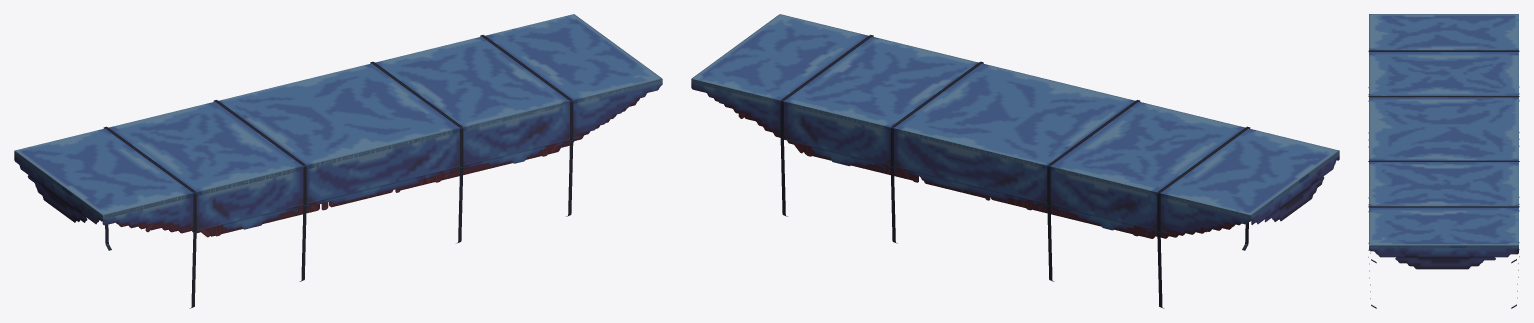
Rendered from meter_freight_tarpaulin.obj.
3 views of the same model, side by side, from view 1: azimuth 30°, elevation 25°; view 2: azimuth 150°, elevation 25°; view 3: azimuth 270°, elevation 25° (orthographic). The views are drawn at different scales.
Parts seen in each view (by area): view 1: part_3f44924043c4c78b4c84a5f68e82ac01, part_d52ee66c536ba1ac29a95e56605b6c20, part_53c2d39a418640fdb8cf22d03f7dfb9c, part_72583437741474e899dc1efa136be4ad, part_a0d662268ad5cb1cfc1192c785297af4, part_caaedb47b12e5f9b578c8f1892529db7; view 2: part_3f44924043c4c78b4c84a5f68e82ac01, part_6cf12048efe7e74f797b69c0b543117c, part_fd5e1a8cb93d28d7b03e759e72e72f44, part_f370ed71e119f1161e22991698553196, part_a0d662268ad5cb1cfc1192c785297af4, part_caaedb47b12e5f9b578c8f1892529db7; view 3: part_3f44924043c4c78b4c84a5f68e82ac01, part_6e017370575b78a36d9045f5dfea5a96, part_e33c084bb1b32f9f9fbe92e8228adb68, part_364d004015dbb0819987eacffed27597, part_b3333d3fa8abf7eb8dfb2b80199243e3, part_373dad6954f4afc0ca1b240f148258e6, part_0cc2ff008bfcf0245349ea6acaa11dae.
Boxes of the visible parts, left/top/right/bottom form: part_3f44924043c4c78b4c84a5f68e82ac01: left=14, top=14, right=661, bottom=218; part_d52ee66c536ba1ac29a95e56605b6c20: left=102, top=79, right=662, bottom=230; part_53c2d39a418640fdb8cf22d03f7dfb9c: left=223, top=141, right=565, bottom=230; part_72583437741474e899dc1efa136be4ad: left=116, top=98, right=639, bottom=236; part_a0d662268ad5cb1cfc1192c785297af4: left=14, top=151, right=102, bottom=224; part_caaedb47b12e5f9b578c8f1892529db7: left=27, top=175, right=87, bottom=222; part_3f44924043c4c78b4c84a5f68e82ac01: left=691, top=14, right=1339, bottom=218; part_6cf12048efe7e74f797b69c0b543117c: left=691, top=79, right=1251, bottom=233; part_fd5e1a8cb93d28d7b03e759e72e72f44: left=811, top=147, right=1154, bottom=233; part_f370ed71e119f1161e22991698553196: left=714, top=98, right=1241, bottom=238; part_a0d662268ad5cb1cfc1192c785297af4: left=1251, top=152, right=1339, bottom=224; part_caaedb47b12e5f9b578c8f1892529db7: left=1264, top=176, right=1324, bottom=222; part_3f44924043c4c78b4c84a5f68e82ac01: left=1369, top=14, right=1518, bottom=248; part_6e017370575b78a36d9045f5dfea5a96: left=1369, top=245, right=1518, bottom=257; part_e33c084bb1b32f9f9fbe92e8228adb68: left=1395, top=257, right=1495, bottom=269; part_364d004015dbb0819987eacffed27597: left=1368, top=206, right=1519, bottom=207; part_b3333d3fa8abf7eb8dfb2b80199243e3: left=1368, top=160, right=1519, bottom=161; part_373dad6954f4afc0ca1b240f148258e6: left=1368, top=50, right=1519, bottom=51; part_0cc2ff008bfcf0245349ea6acaa11dae: left=1368, top=96, right=1519, bottom=97.
Size of the model in its own units: 10.5 by 2.2 by 2.91.
